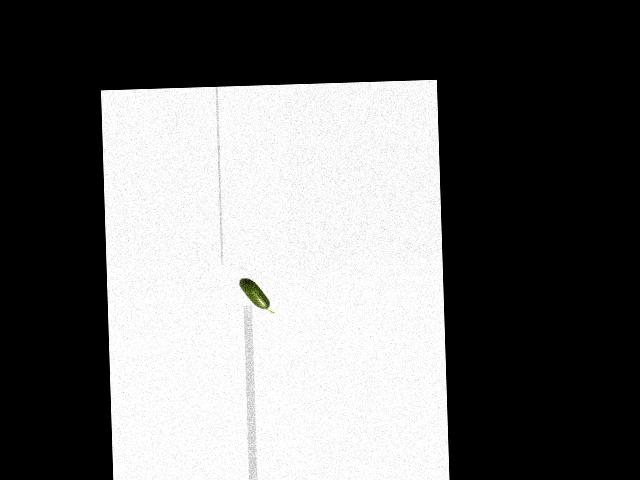cucumber: (238, 278, 274, 314)
